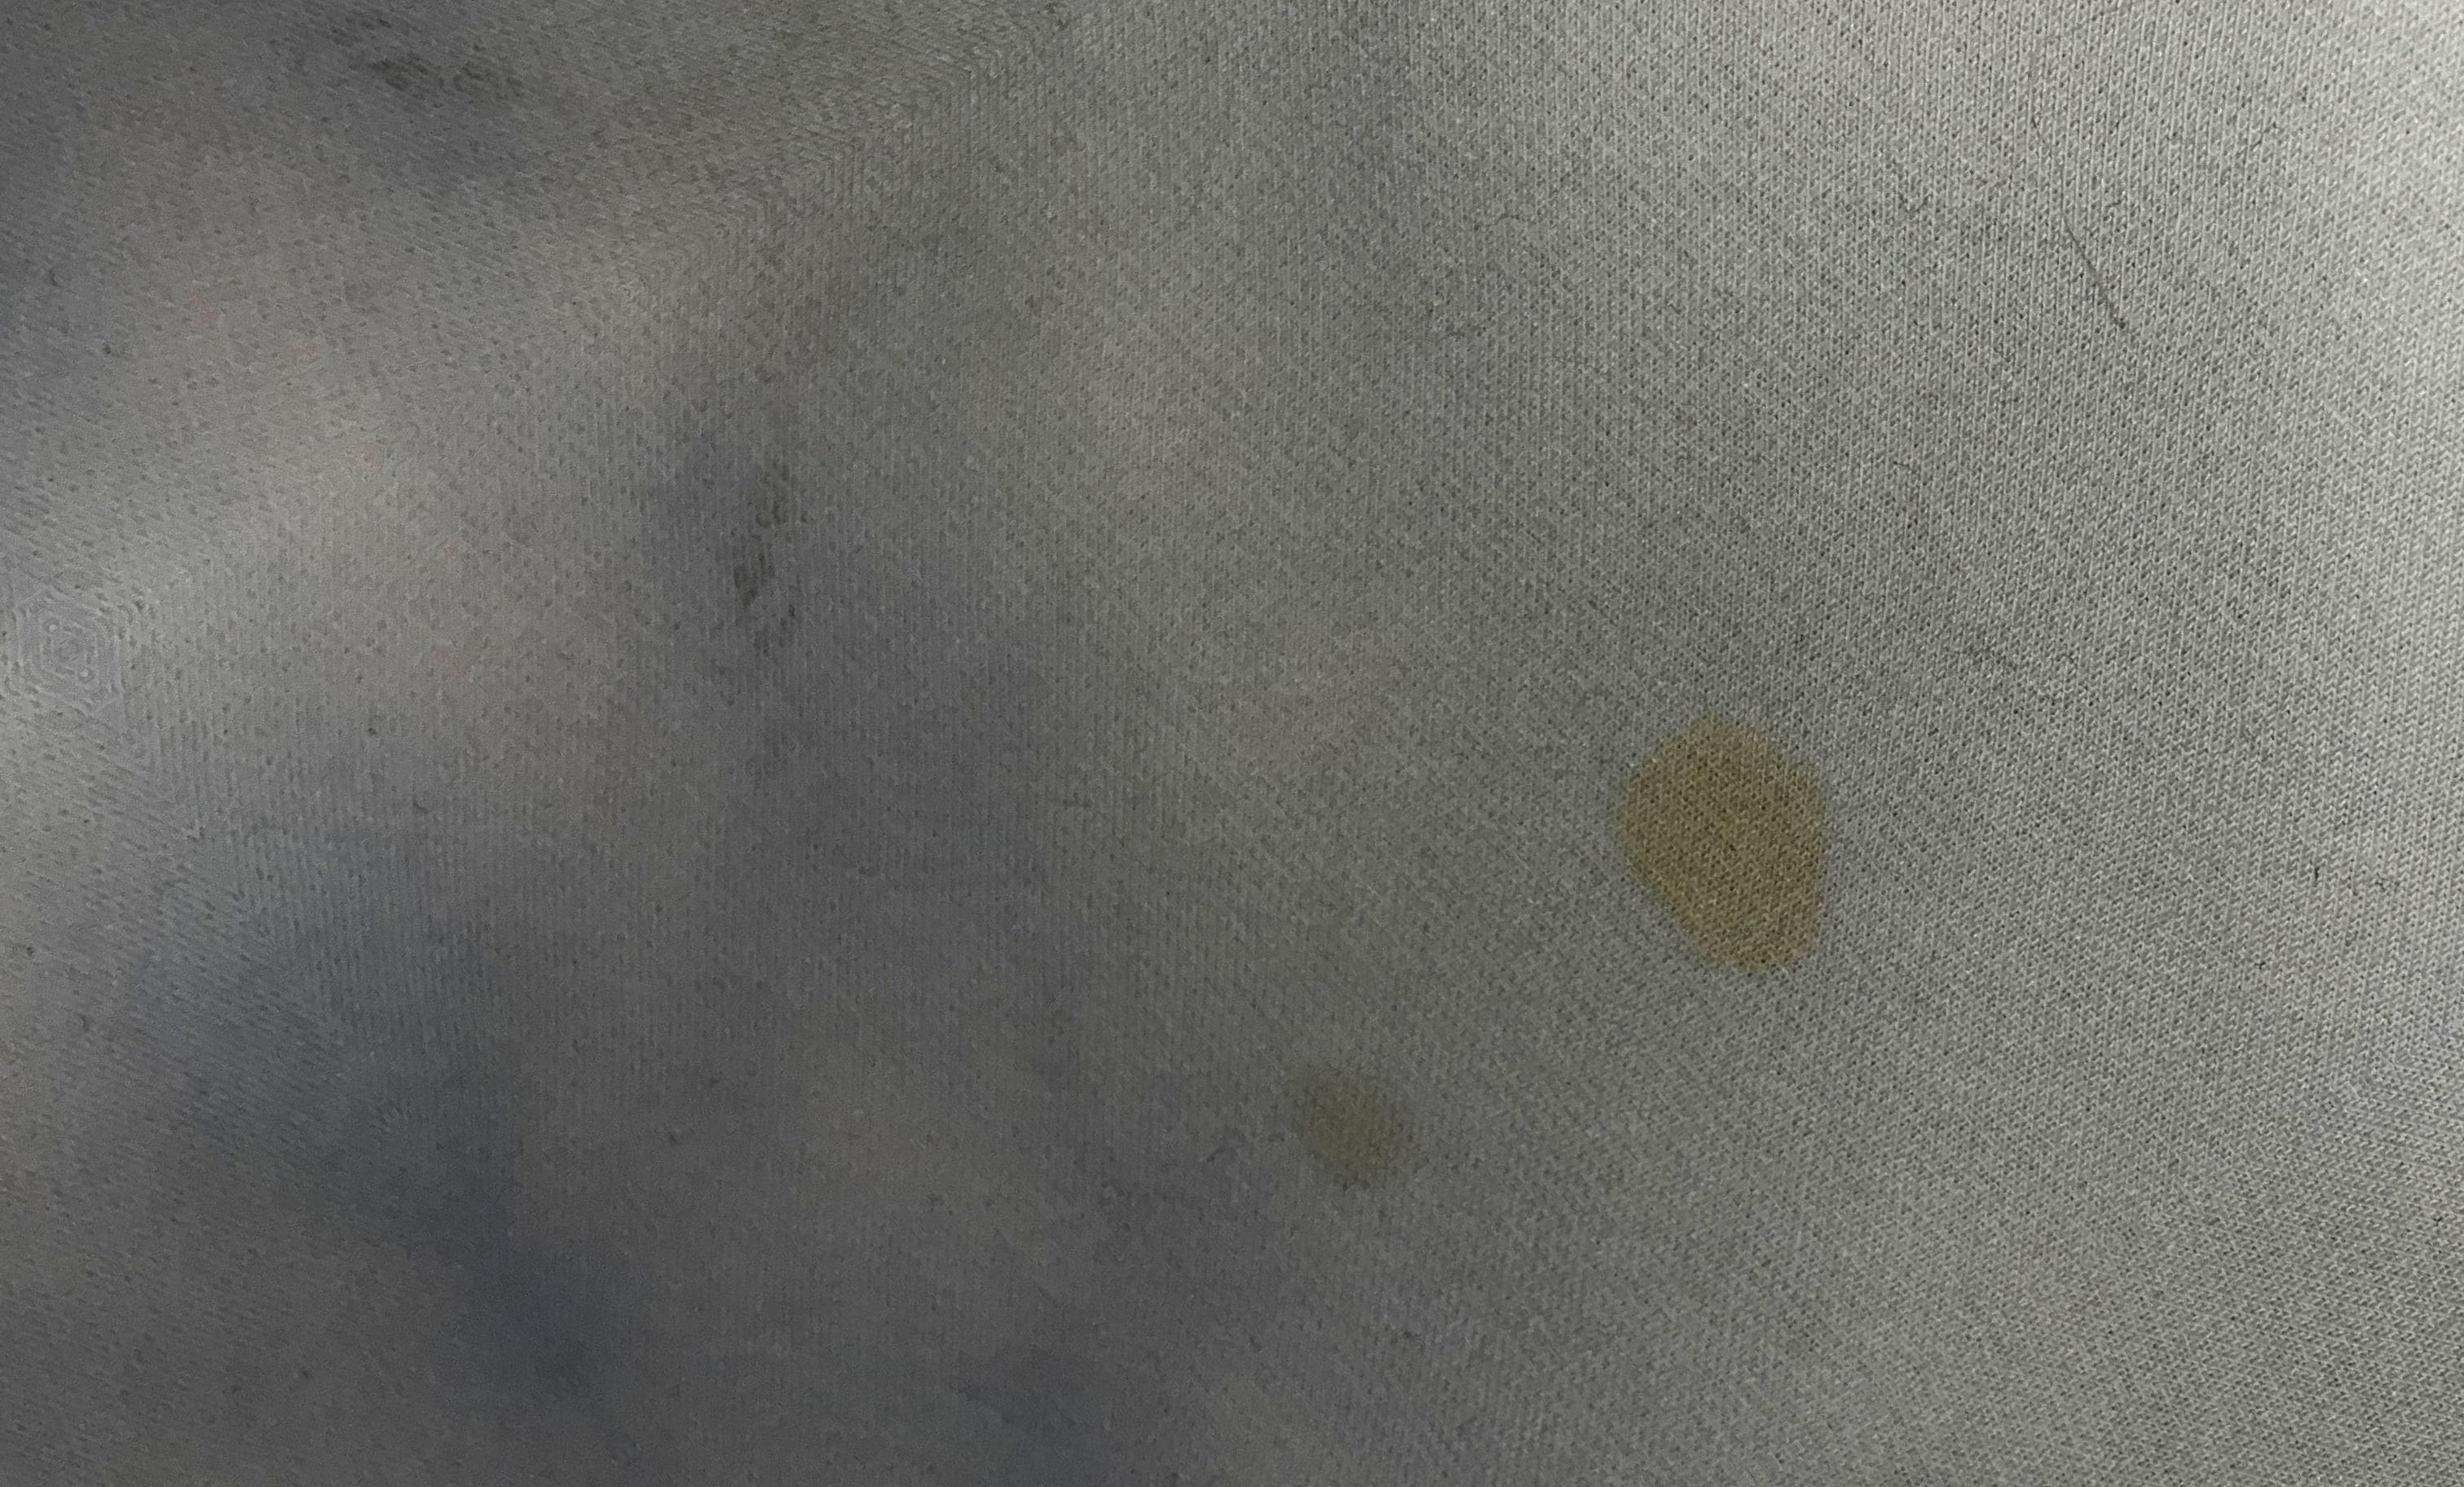stain: (1593, 697, 1866, 1000), (1246, 1014, 1457, 1227)
